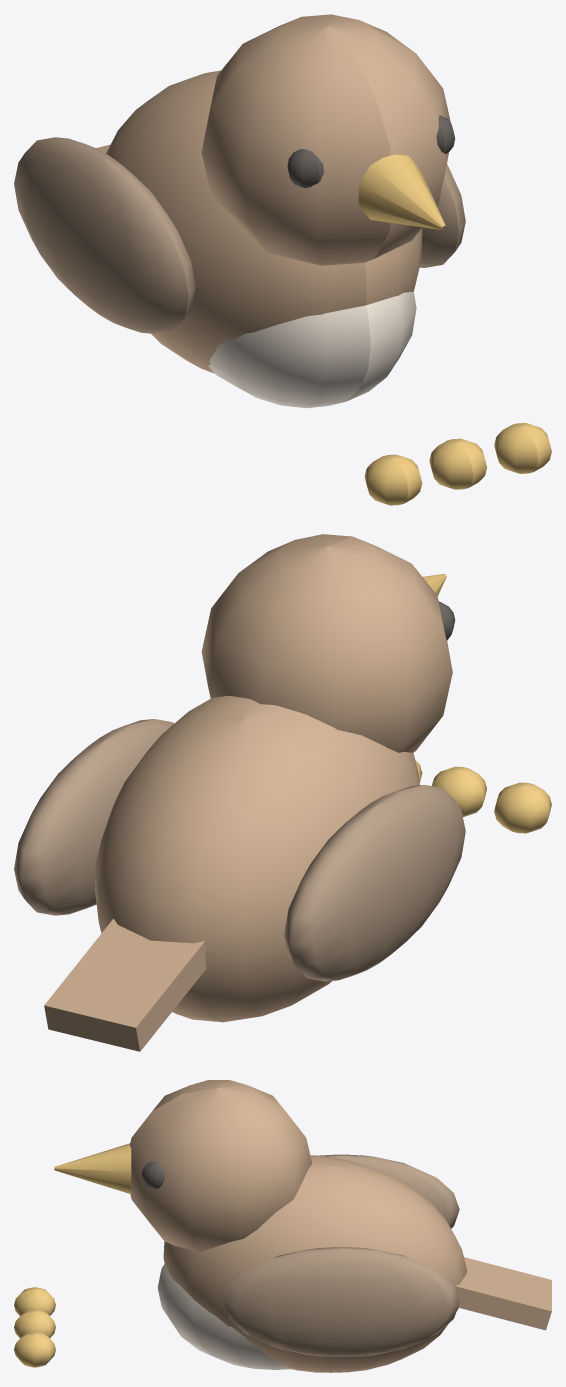
The model's file is songbird_azure.glb.
3 views of the same model, one above another, from view 1: azimuth 30°, elevation 25°; view 2: azimuth 150°, elevation 25°; view 3: azimuth 270°, elevation 25° (orthographic). The views are drawn at different scales.
Visible parts, largest first — view 1: Songbird_Body, Wing_L, Treat_Group, Wing_R; view 2: Songbird_Body, Wing_L, Wing_R, Treat_Group; view 3: Songbird_Body, Wing_R, Treat_Group, Wing_L.
Part boxes in pixels (<box>): Songbird_Body: <box>96,14,455,408</box>; Wing_L: <box>14,137,195,333</box>; Treat_Group: <box>364,423,551,505</box>; Wing_R: <box>419,164,465,267</box>; Songbird_Body: <box>44,534,455,1051</box>; Wing_L: <box>284,785,465,981</box>; Wing_R: <box>14,719,173,915</box>; Treat_Group: <box>415,759,551,833</box>; Songbird_Body: <box>54,1080,551,1372</box>; Wing_R: <box>223,1247,459,1356</box>; Treat_Group: <box>14,1287,55,1367</box>; Wing_L: <box>319,1154,459,1228</box>.
Bounding box in the file's own units: 0.3124 × 0.3487 × 0.6143.
